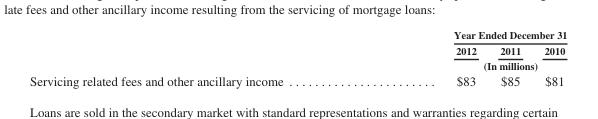table: (28, 28, 566, 87)
table column: (28, 28, 367, 87), (367, 28, 487, 87), (487, 28, 531, 87), (531, 28, 566, 87)
table column header: (28, 28, 566, 72)
table row: (28, 42, 566, 58), (28, 72, 566, 87), (28, 28, 566, 42), (28, 58, 566, 72)
table spanning cell: (367, 28, 566, 42), (367, 58, 566, 72)
